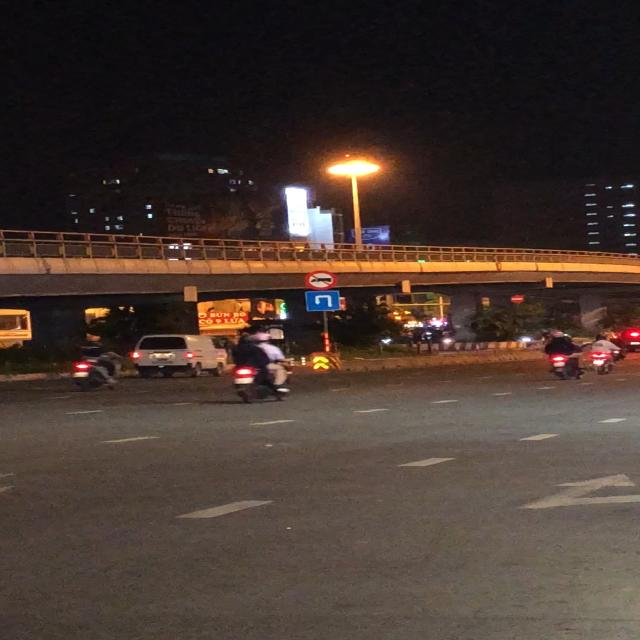Bien bao cam xe so-mi ro-mooc: (304, 270, 338, 292)
